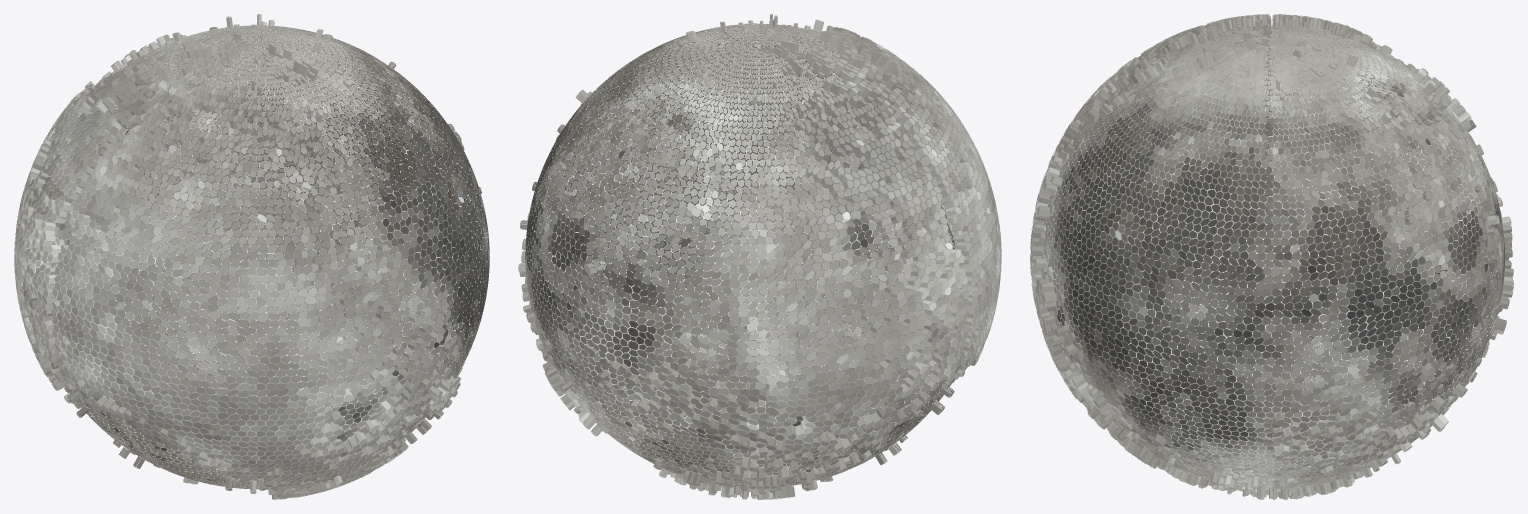
File: moon.glb
3 renders of one model, left to right at view 1: azimuth 30°, elevation 25°; view 2: azimuth 150°, elevation 25°; view 3: azimuth 270°, elevation 25°, orthographic.
Parts seen in each view (by area): view 1: Sphere; view 2: Sphere; view 3: Sphere.
Part boxes in pixels (box(x1,y1,x2,y2)): Sphere: box(14, 14, 489, 499); Sphere: box(518, 14, 1001, 499); Sphere: box(1030, 14, 1513, 499).
Bounding box in the file's own units: 2.09 × 2.09 × 2.09.
Materials: 1 (1 with a texture image).
